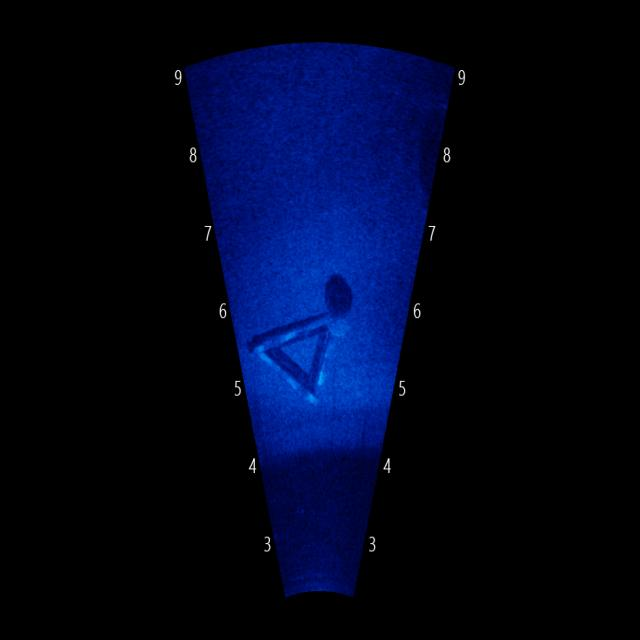triangle: (245, 306, 352, 410)
